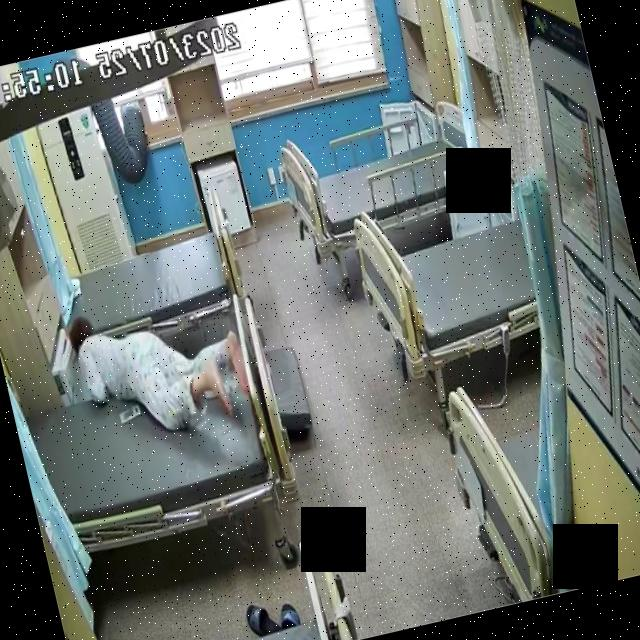bed: (18, 344, 286, 566), (343, 176, 550, 388), (278, 96, 485, 256), (46, 202, 250, 361)
danger: (64, 280, 258, 456)
patient: (64, 280, 256, 456)
